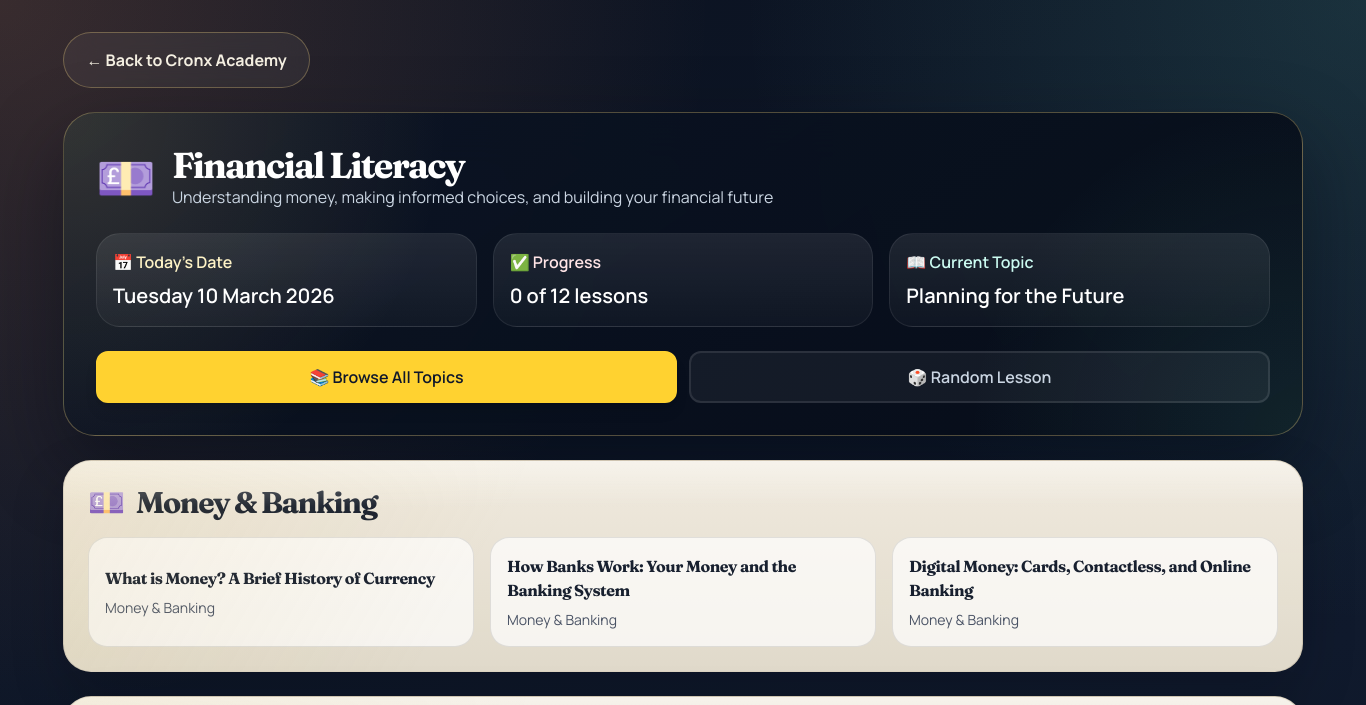
Test case: FinancialLiteracyInteractive › does not double-count when Mark Complete is clicked twice on the same lesson
Click the button "🎲 Random Lesson": coordinates (980, 377) [689,351,1270,403]
(page scrolled)
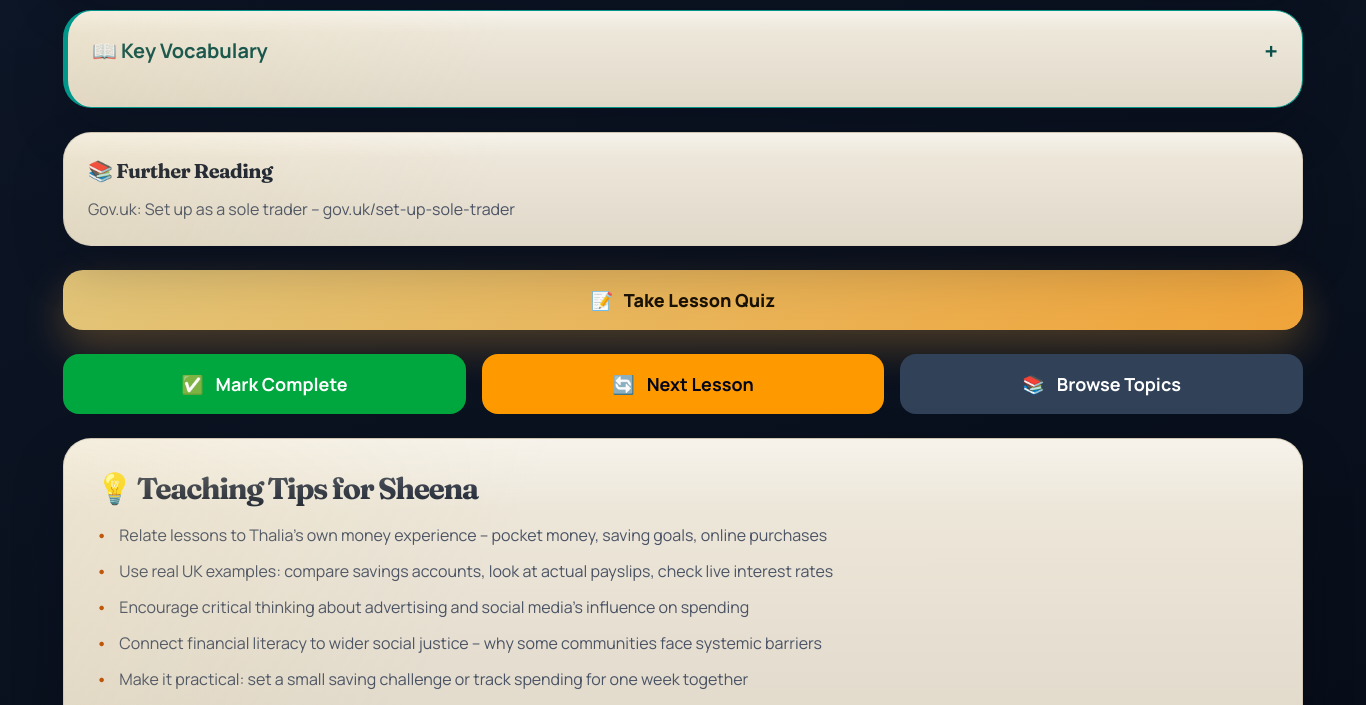
Expected: the text "Mark Complete" is shown
# First click marks the lesson complete
Click the text "Mark Complete": coordinates (282, 384) [216,370,348,398]
(page scrolled)
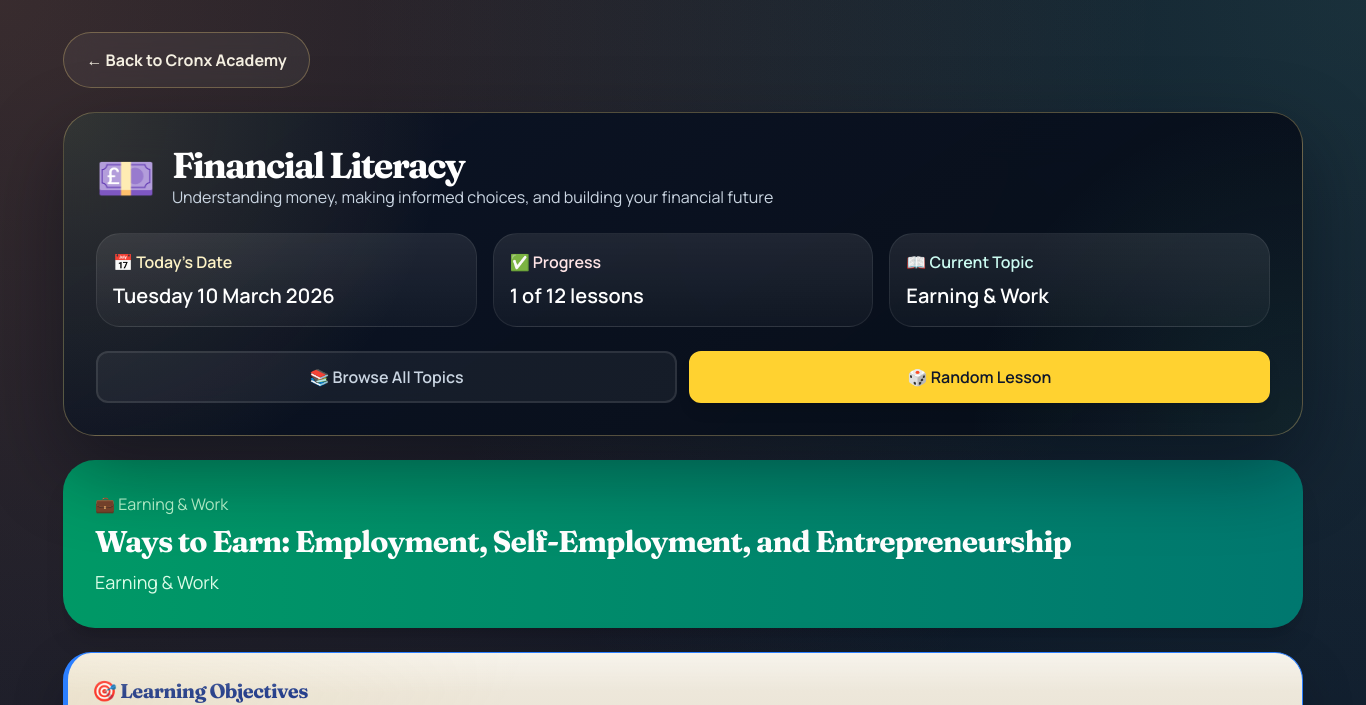
Expected: the text "1 of 12 lessons" is shown, [510,282,644,309]
